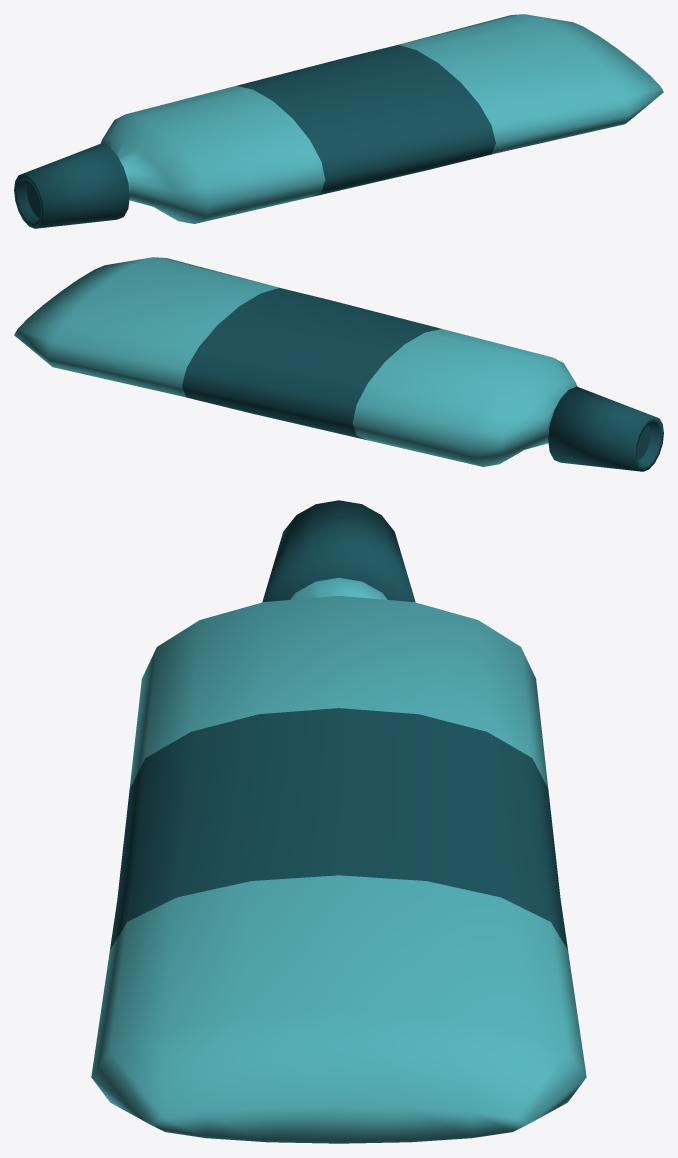
File: Odol.fbx
3 views of the same model, one above another, from view 1: azimuth 30°, elevation 25°; view 2: azimuth 150°, elevation 25°; view 3: azimuth 270°, elevation 25° (orthographic). The views are drawn at different scales.
Visible parts, largest first — view 1: Tooth Paste; view 2: Tooth Paste; view 3: Tooth Paste.
Part boxes in pixels (x1,y1,x2,y2): Tooth Paste: (14, 14, 663, 228); Tooth Paste: (14, 257, 663, 471); Tooth Paste: (91, 500, 586, 1143).
Size of the model in its own units: 47.19 by 6.35 by 17.22.
